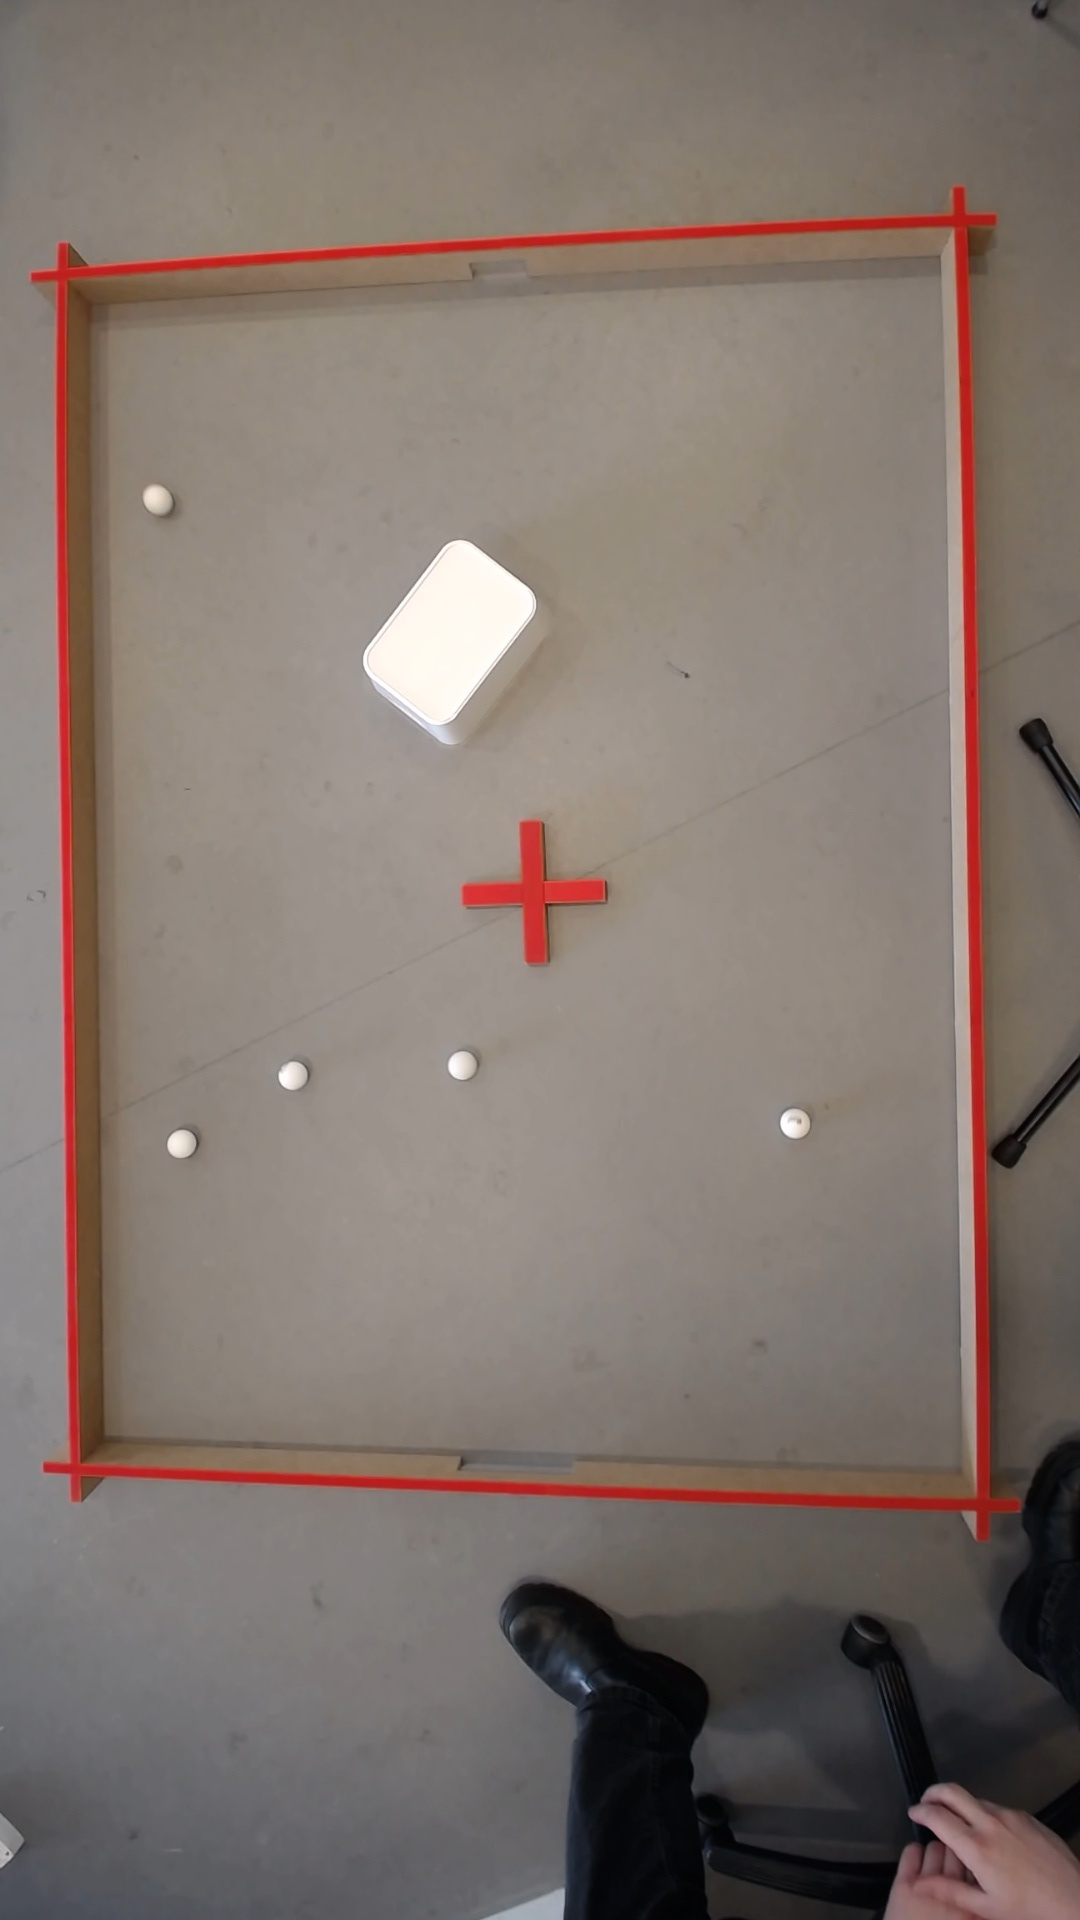balls: (348, 529, 546, 736), (273, 1056, 305, 1092), (162, 1126, 194, 1159), (442, 1047, 472, 1080)
car: (144, 487, 164, 509)
